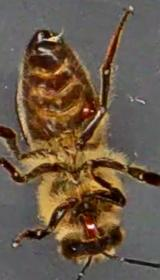varroa_mite: (75, 91, 108, 126)
